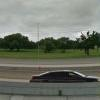Car: (22, 62, 99, 83)
